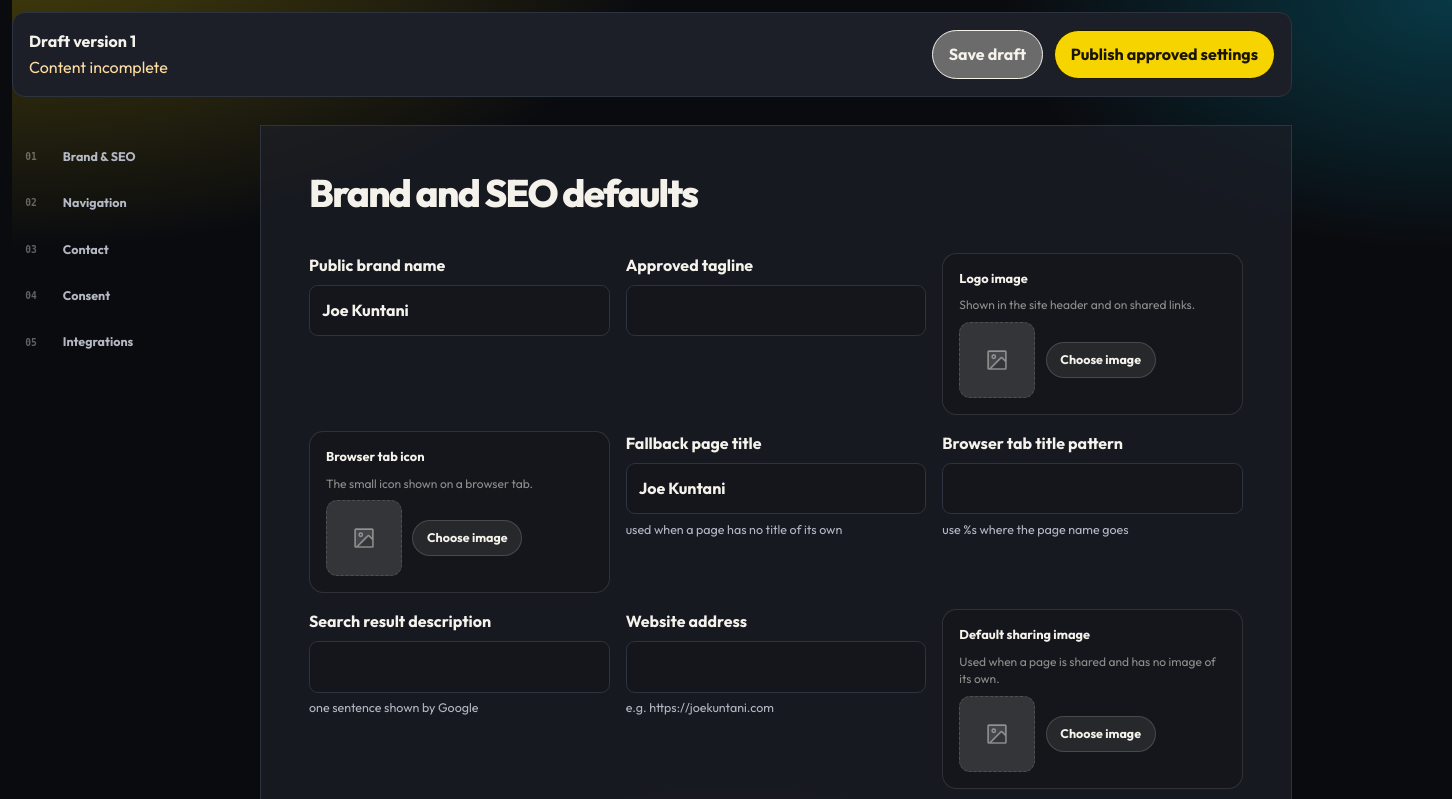
Scenario: reports a 409 from saving instead of claiming success
Expected: the field labelled "Public brand name" is shown, [309,285,610,336]
Click the button "Save draft" at (988, 55), box [932,30,1043,79]
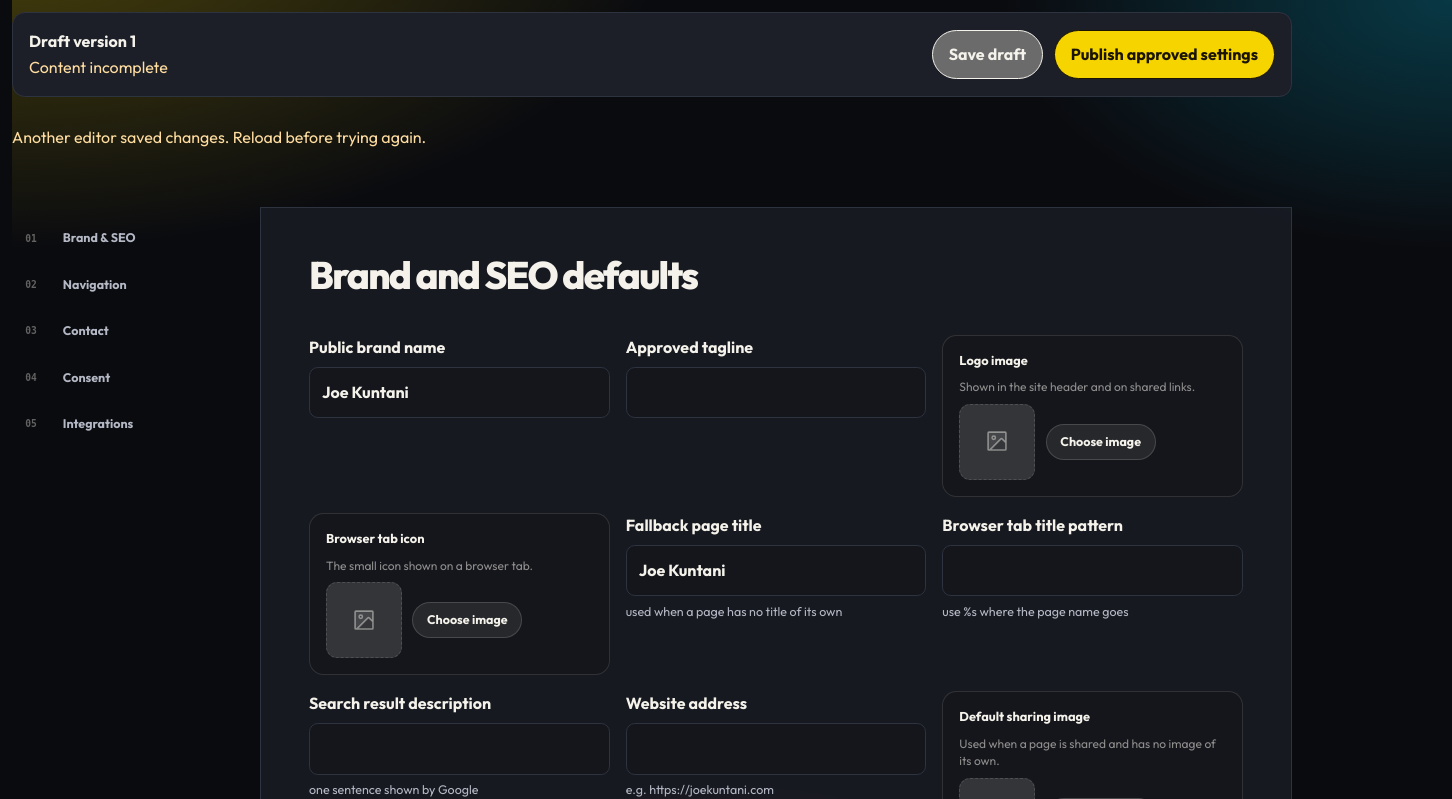
Expected: the text "Another editor saved changes. Reload before trying again." is shown, [12,127,426,147]
